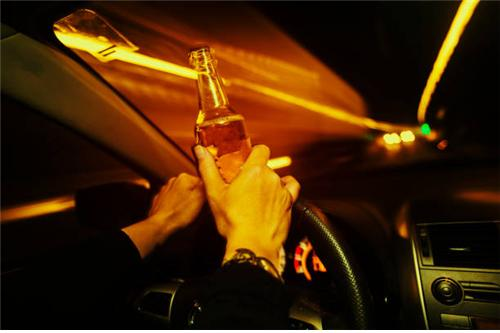alcohol: (187, 46, 256, 184)
